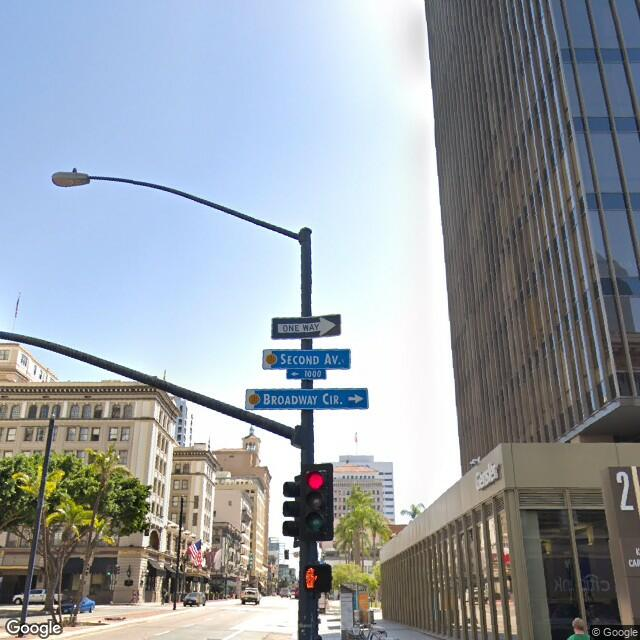light: (47, 169, 98, 191)
window: (120, 425, 127, 444)
